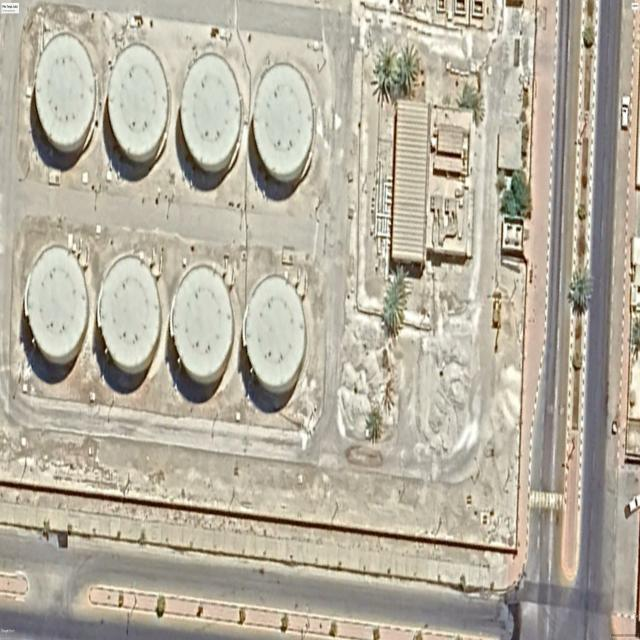Oil Rafinery: (23, 245, 89, 365), (169, 264, 234, 385), (97, 255, 162, 375), (242, 275, 306, 395), (34, 33, 96, 155), (107, 44, 170, 163), (252, 63, 314, 183), (181, 54, 242, 173)
